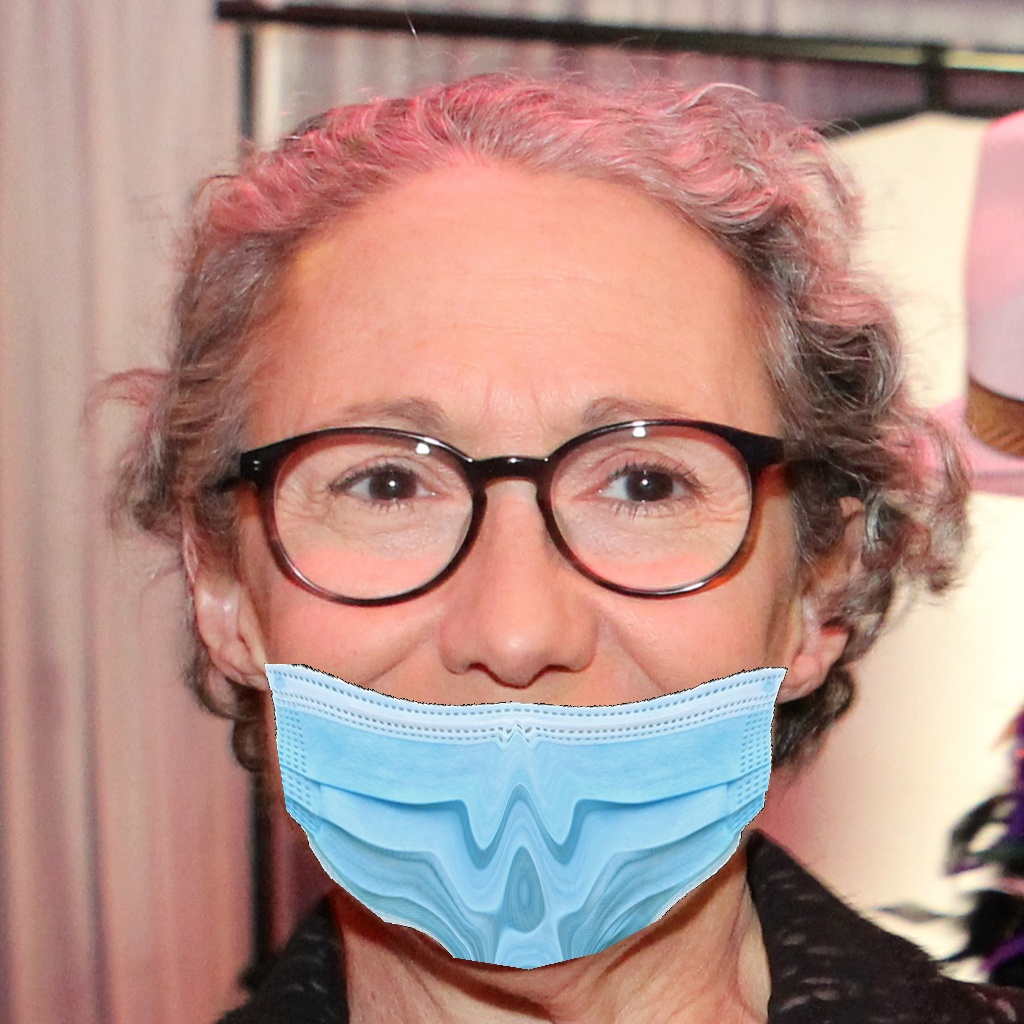mascarilla_mal_puesta: (227, 415, 842, 963)
